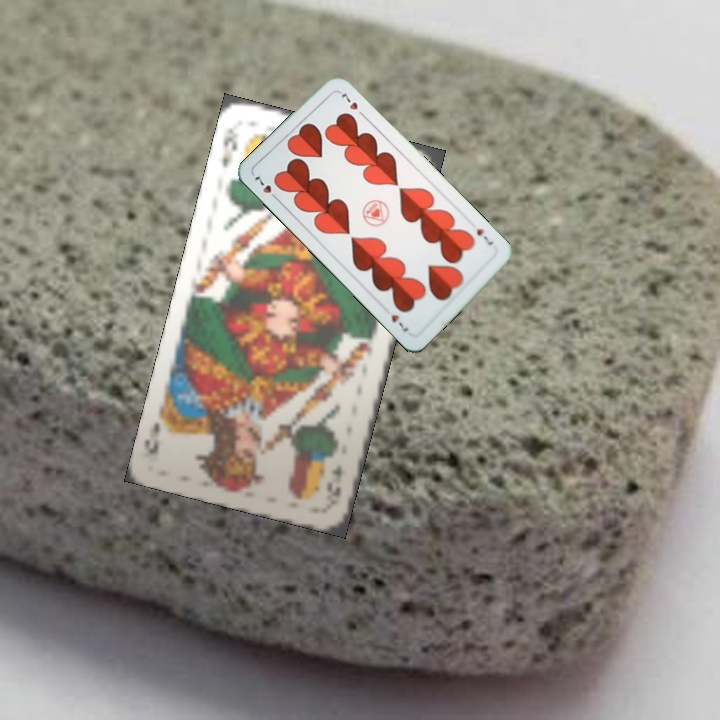EK: (217, 121, 241, 171), (322, 461, 345, 500)
H7: (250, 172, 282, 203), (472, 224, 497, 248)
